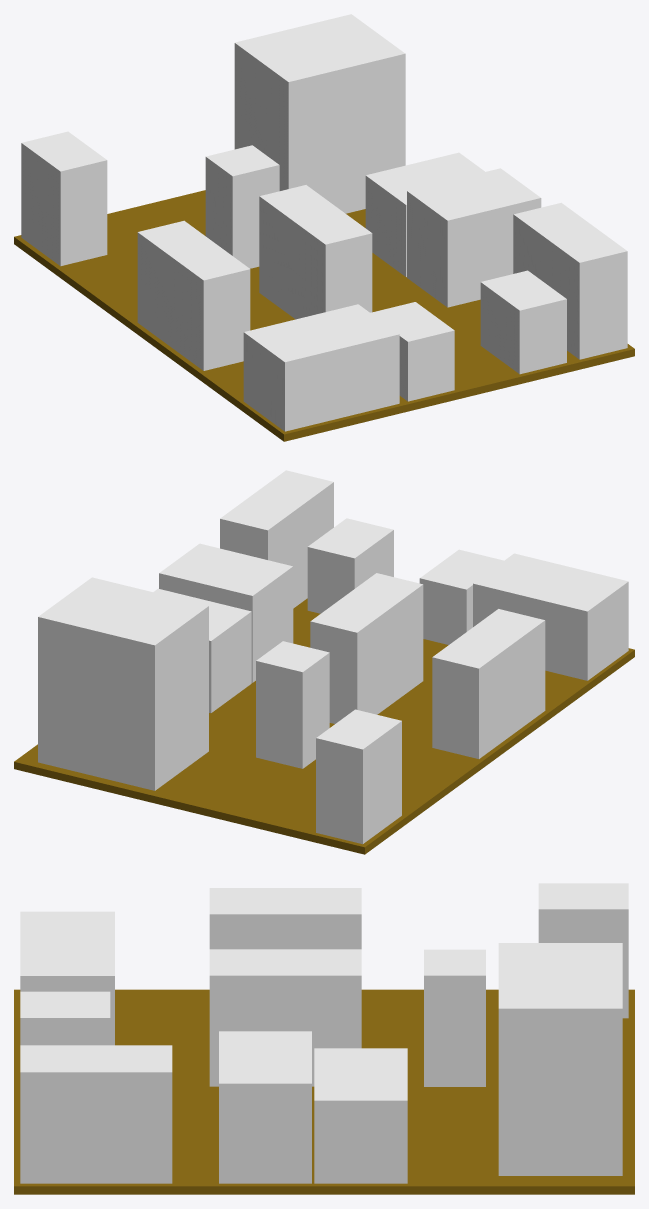
File: vivium_modell_v0.3.dae
3 views of the same model, one above another, from view 1: azimuth 30°, elevation 25°; view 2: azimuth 150°, elevation 25°; view 3: azimuth 270°, elevation 25° (orthographic). The views are drawn at different scales.
Parts seen in each view (by area): view 1: Haus_4; view 2: Haus_4; view 3: Haus_4.
Boxes of the visible parts, x1,y1,x2,y2 form: Haus_4: [14, 14, 634, 441]; Haus_4: [14, 470, 634, 854]; Haus_4: [14, 883, 634, 1194].
Bounding box in the file's own units: 150 × 62.45 × 200.
